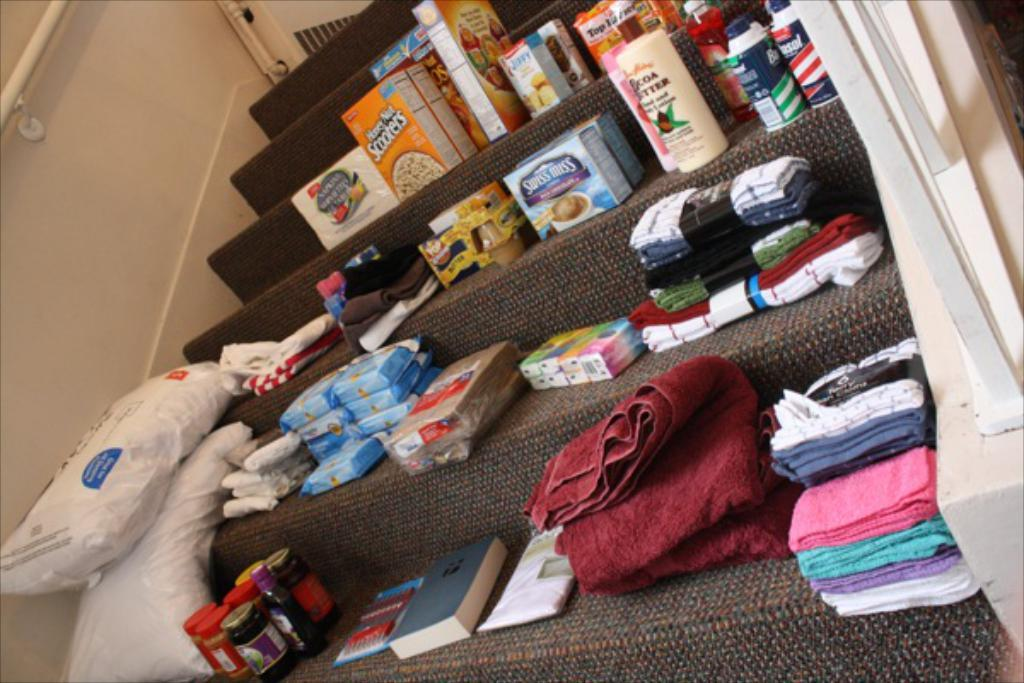book: (386, 531, 509, 657)
